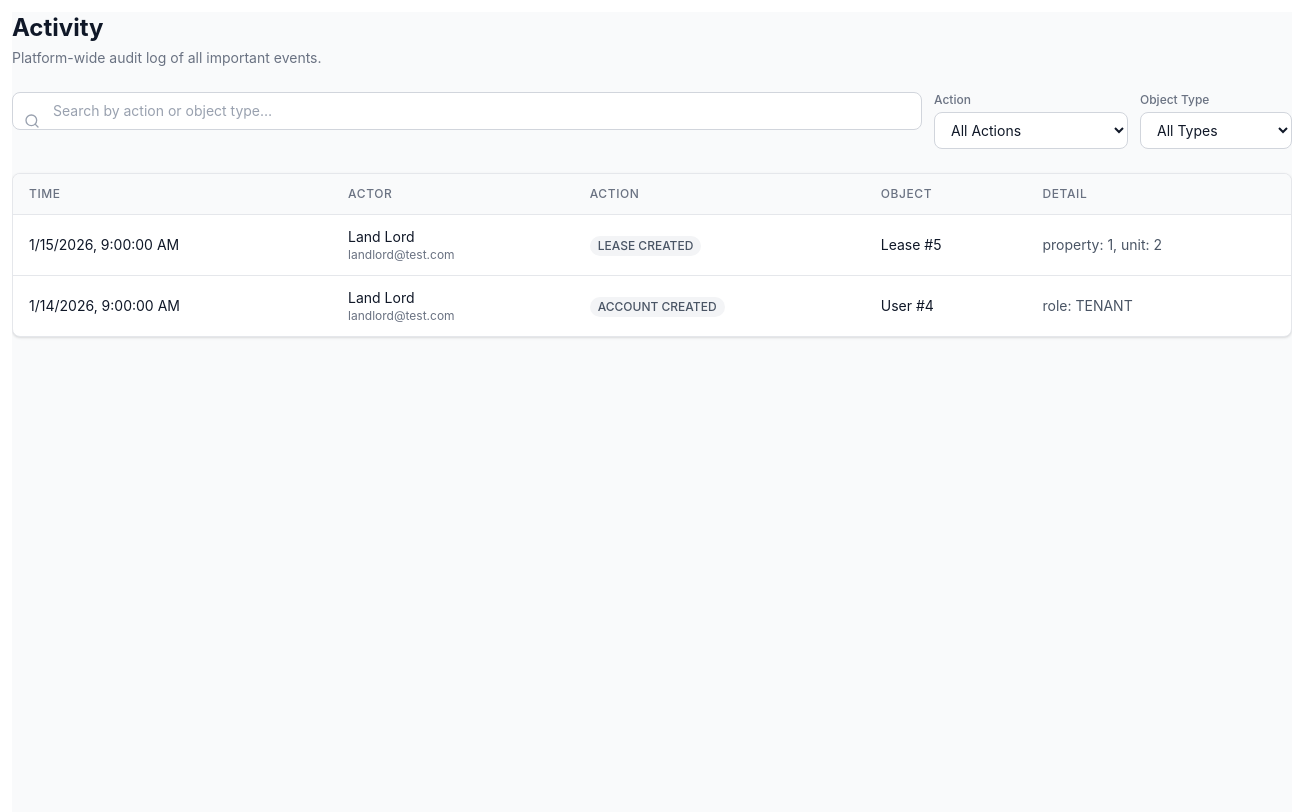
Test: ActivityPage › opens the detail panel on row click
Check: the text "LEASE CREATED" is shown, box [590,236,701,256]
Click the text "Land Lord" in the row of "1/15/2026, 9:00:00 AM": (381, 236) [348,228,415,245]
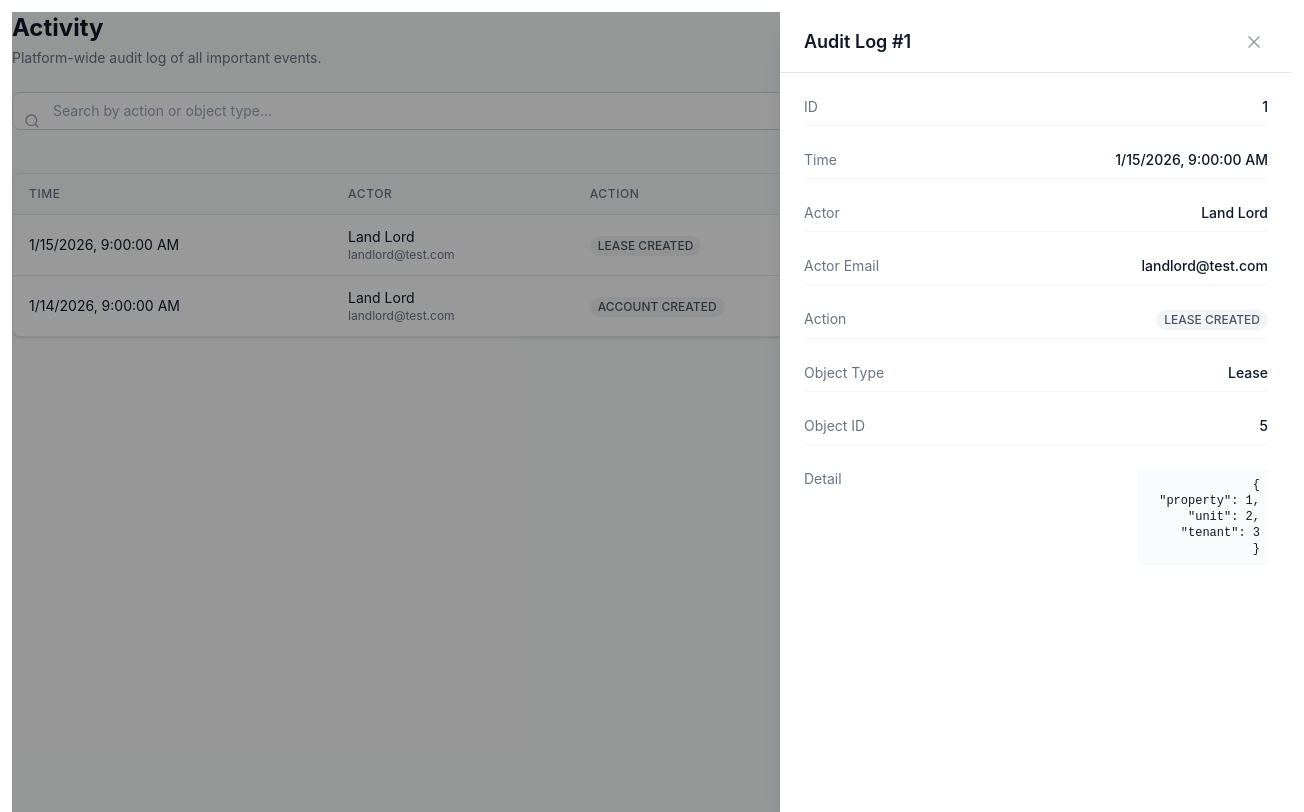
Check: the heading "Audit Log #1" is shown, box [804,28,911,56]
